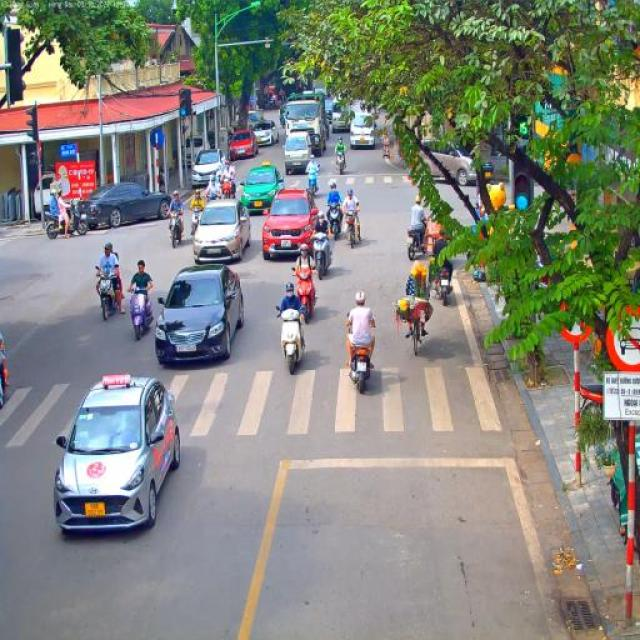car: (52, 372, 182, 538), (154, 262, 245, 367), (73, 181, 173, 230), (406, 138, 495, 188), (262, 187, 318, 261), (192, 197, 252, 264), (240, 161, 286, 217), (191, 148, 228, 191), (228, 129, 258, 162), (252, 119, 279, 146), (247, 111, 263, 127)
motorcycle: (276, 305, 306, 375), (45, 200, 89, 240), (348, 332, 373, 394), (126, 288, 154, 342), (292, 266, 318, 322), (95, 266, 120, 320), (308, 231, 332, 281), (430, 262, 454, 307), (406, 217, 429, 261), (324, 204, 344, 240), (345, 210, 363, 250), (169, 210, 185, 249), (0, 347, 10, 409), (189, 206, 203, 237), (334, 150, 348, 176), (220, 177, 236, 199), (307, 169, 319, 197), (206, 189, 222, 201)
truck: (284, 93, 330, 156), (349, 100, 376, 150), (284, 130, 312, 176), (330, 96, 352, 132), (323, 96, 332, 132)
